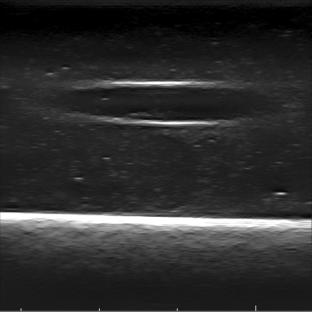vessel: (57, 80, 267, 126)
